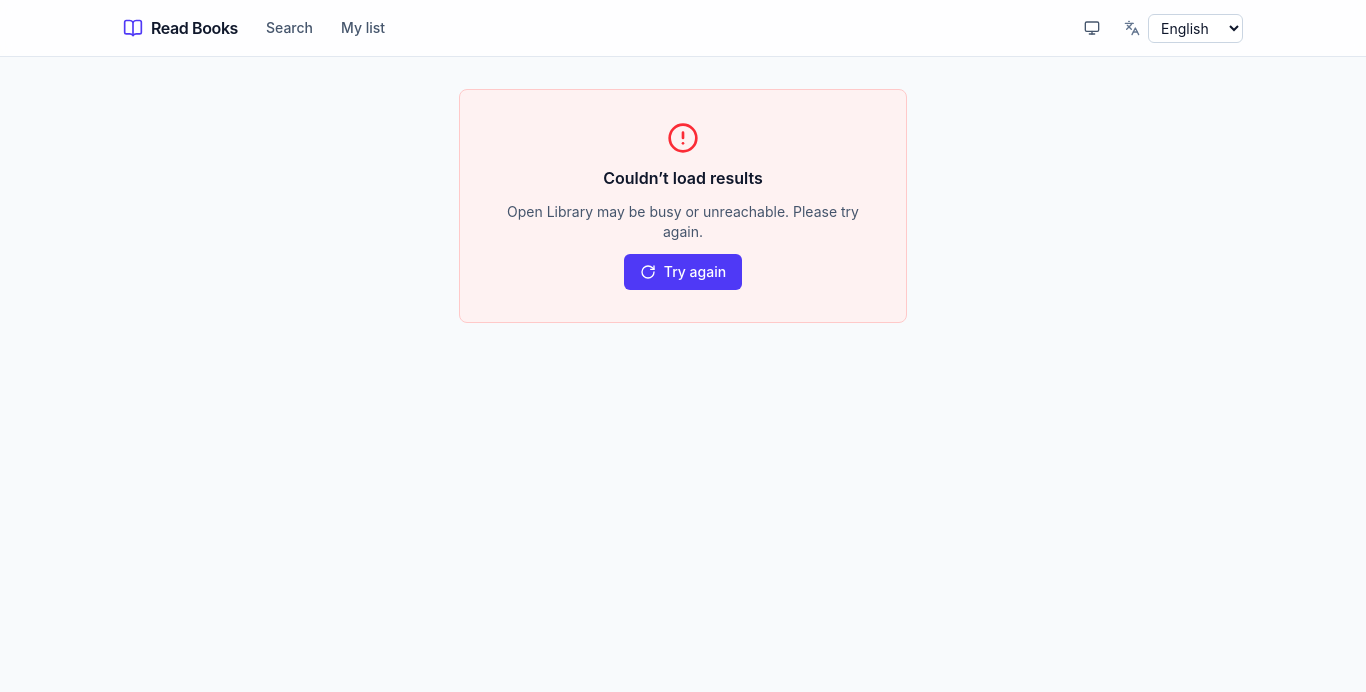
Scenario: BookPage › shows a retryable error when loading fails
Click the button "Try again": (683, 272) [624,254,742,290]
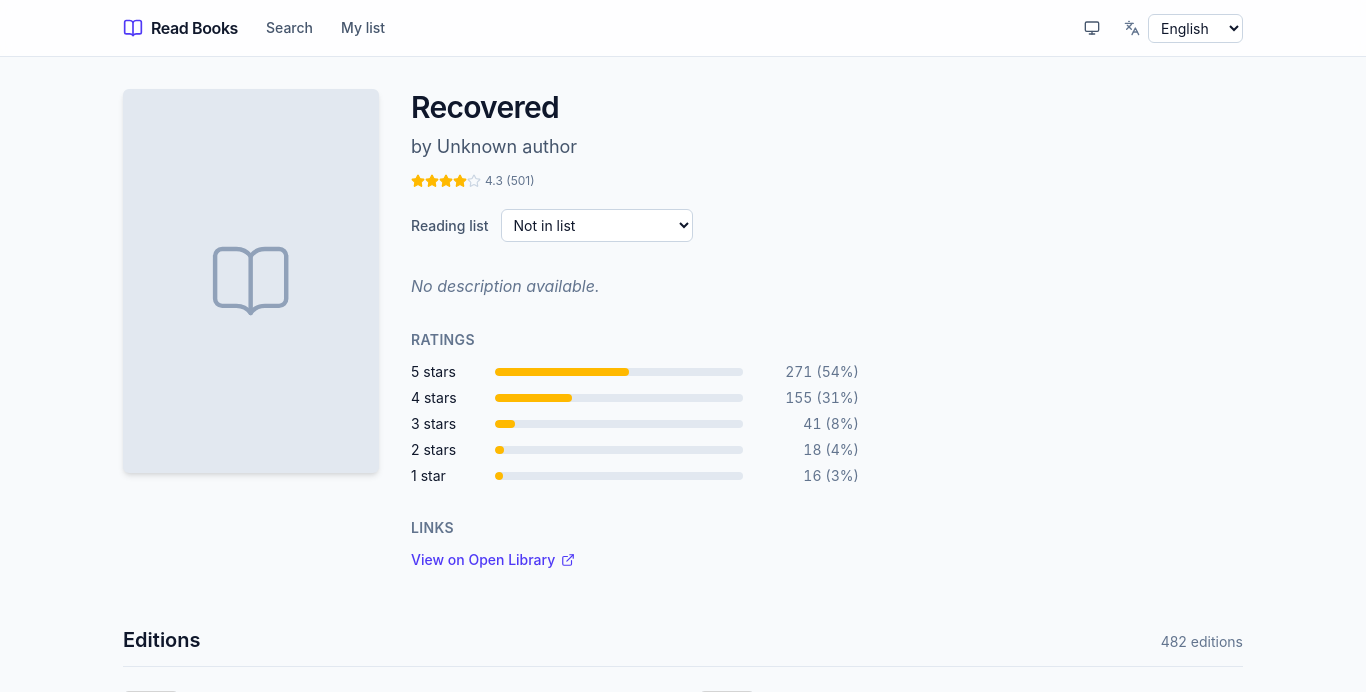
Expected: the heading "Recovered" is shown, [411,89,559,125]
